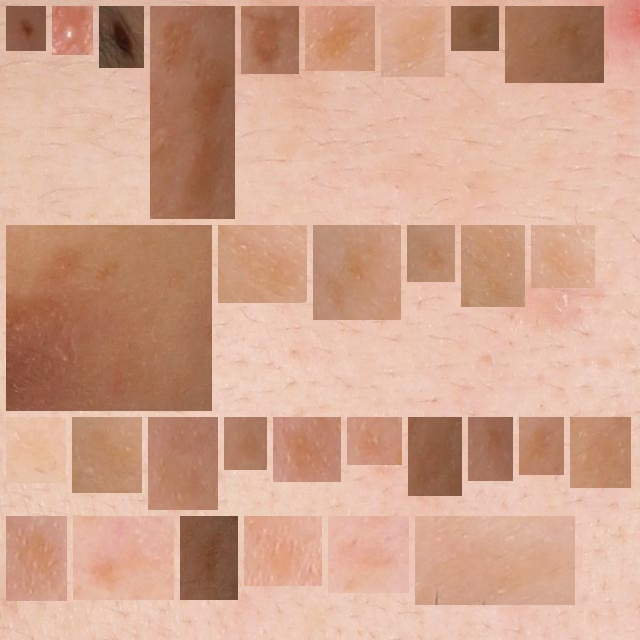melasma: (14, 233, 204, 403), (158, 14, 227, 211), (423, 524, 567, 597), (81, 524, 166, 592), (321, 233, 393, 312), (513, 14, 596, 75), (226, 233, 299, 295), (156, 425, 210, 502), (336, 524, 401, 585), (252, 524, 314, 578), (80, 425, 134, 485), (469, 233, 517, 299), (14, 524, 59, 593), (188, 524, 230, 592), (313, 14, 367, 63), (389, 14, 437, 69), (281, 425, 333, 474), (578, 425, 623, 480), (416, 425, 454, 488), (539, 233, 587, 280), (14, 425, 58, 475), (249, 14, 291, 66), (476, 425, 505, 473), (415, 233, 447, 274), (355, 425, 394, 457), (527, 425, 556, 467), (232, 425, 259, 462), (459, 14, 491, 43)
nevus: (107, 14, 136, 60), (14, 14, 38, 43)
pustule: (60, 14, 85, 47)
